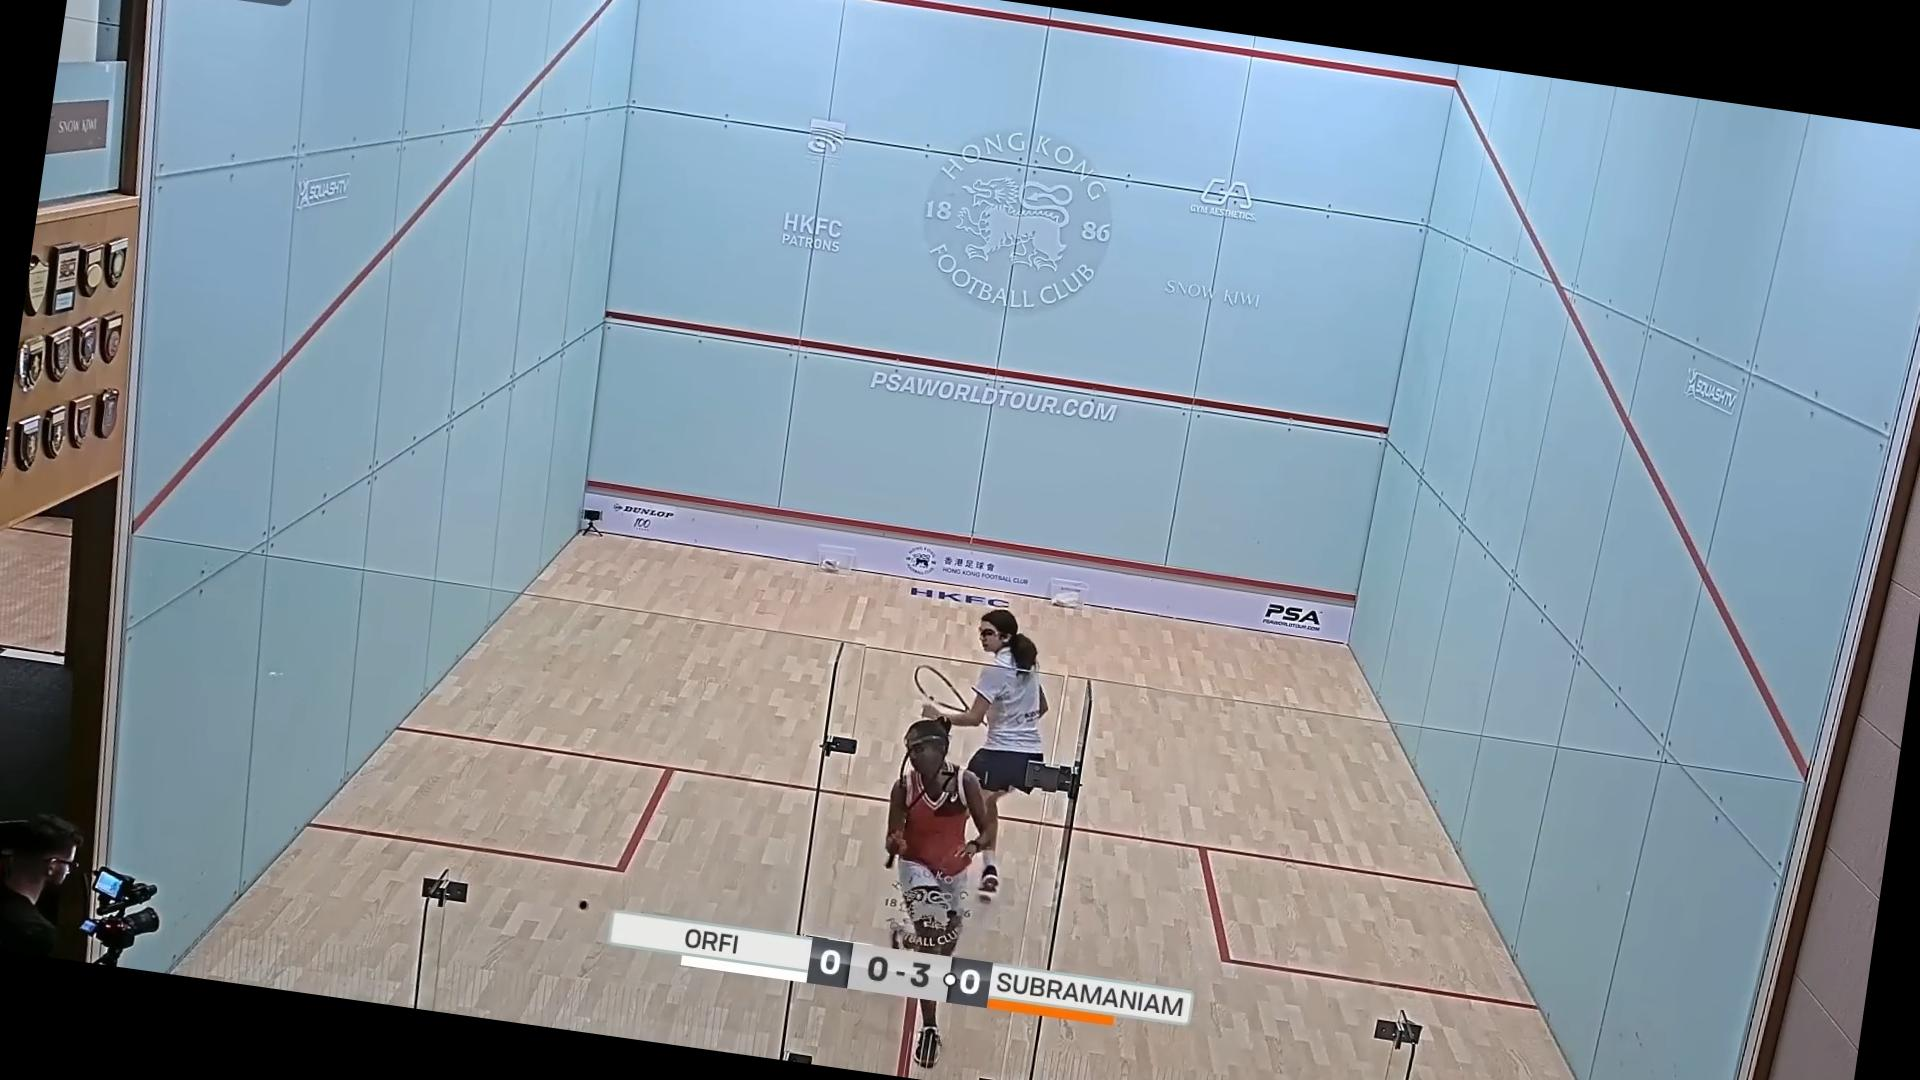Squash-Ball: (570, 893, 597, 918)
